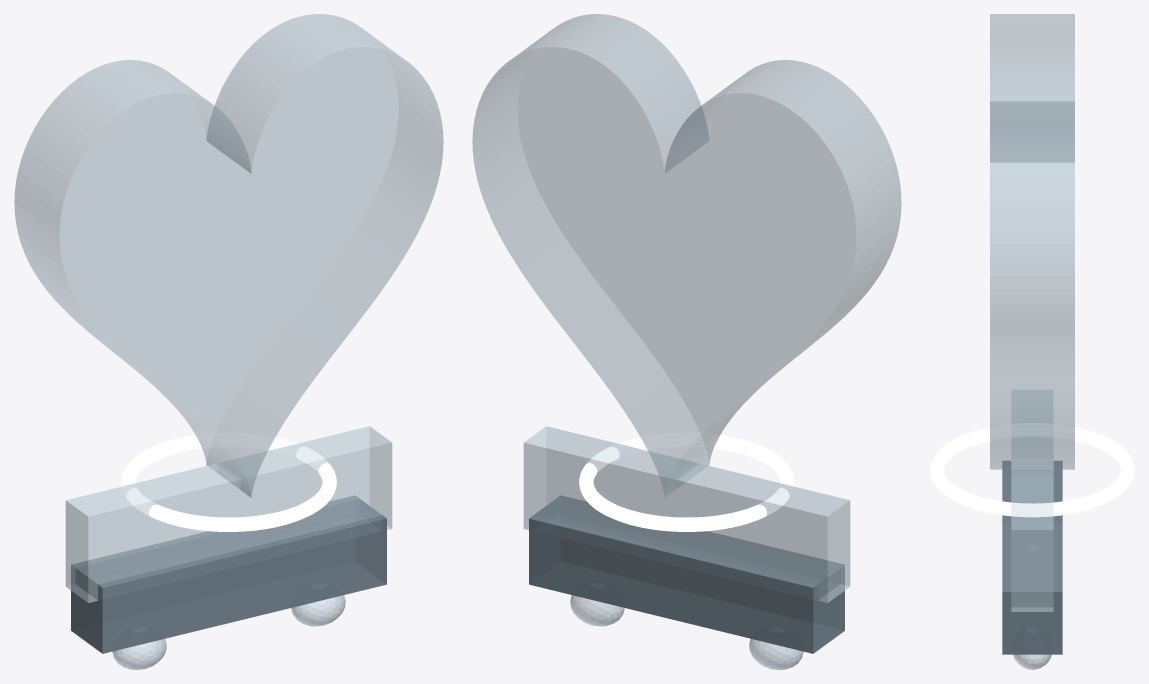
Rendered from crysta.glb.
3 renders of one model, left to right at view 1: azimuth 30°, elevation 25°; view 2: azimuth 150°, elevation 25°; view 3: azimuth 270°, elevation 25°, orthographic. The views are drawn at different scales.
Parts seen in each view (by area): view 1: Heart Crystal, Lower Plinth, Upper Plinth, LED Halo, Foot 0.78, Foot -0.78; view 2: Heart Crystal, Lower Plinth, Upper Plinth, LED Halo, Foot 0.78, Foot -0.78; view 3: Heart Crystal, Lower Plinth, Upper Plinth, LED Halo, Foot 0.78.
Part boxes in pixels (bbox=[...]): Heart Crystal: bbox=[14, 14, 443, 497]; Lower Plinth: bbox=[71, 495, 386, 653]; Upper Plinth: bbox=[65, 426, 392, 602]; LED Halo: bbox=[121, 432, 336, 531]; Foot 0.78: bbox=[291, 595, 345, 626]; Foot -0.78: bbox=[112, 639, 166, 669]; Heart Crystal: bbox=[472, 14, 901, 497]; Lower Plinth: bbox=[529, 495, 844, 653]; Upper Plinth: bbox=[523, 426, 850, 602]; LED Halo: bbox=[579, 432, 794, 531]; Foot 0.78: bbox=[570, 595, 624, 626]; Foot -0.78: bbox=[749, 639, 803, 669]; Heart Crystal: bbox=[990, 14, 1074, 469]; Lower Plinth: bbox=[1002, 460, 1062, 654]; Upper Plinth: bbox=[1011, 390, 1053, 611]; LED Halo: bbox=[930, 423, 1134, 517]; Foot 0.78: bbox=[1013, 654, 1051, 669].
Size of what is drawn, in the model's own units: 3.35 by 4.92 by 1.63.
